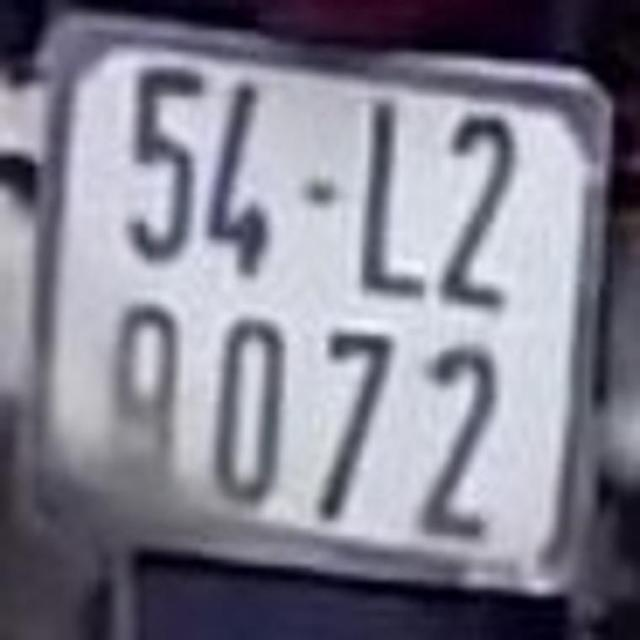0: (212, 310, 288, 507)
2: (416, 335, 499, 542), (439, 104, 516, 312)
4: (208, 76, 272, 281)
5: (127, 62, 201, 264)
7: (315, 320, 396, 523)
9: (110, 301, 180, 497)
L: (354, 88, 431, 304)
